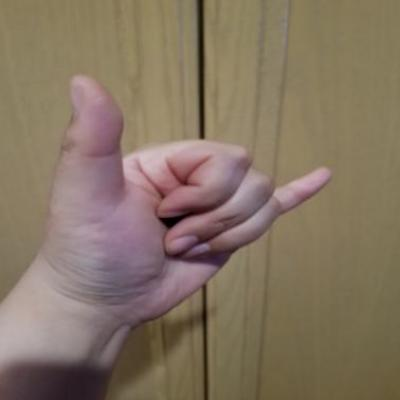hand: (36, 64, 339, 338)
